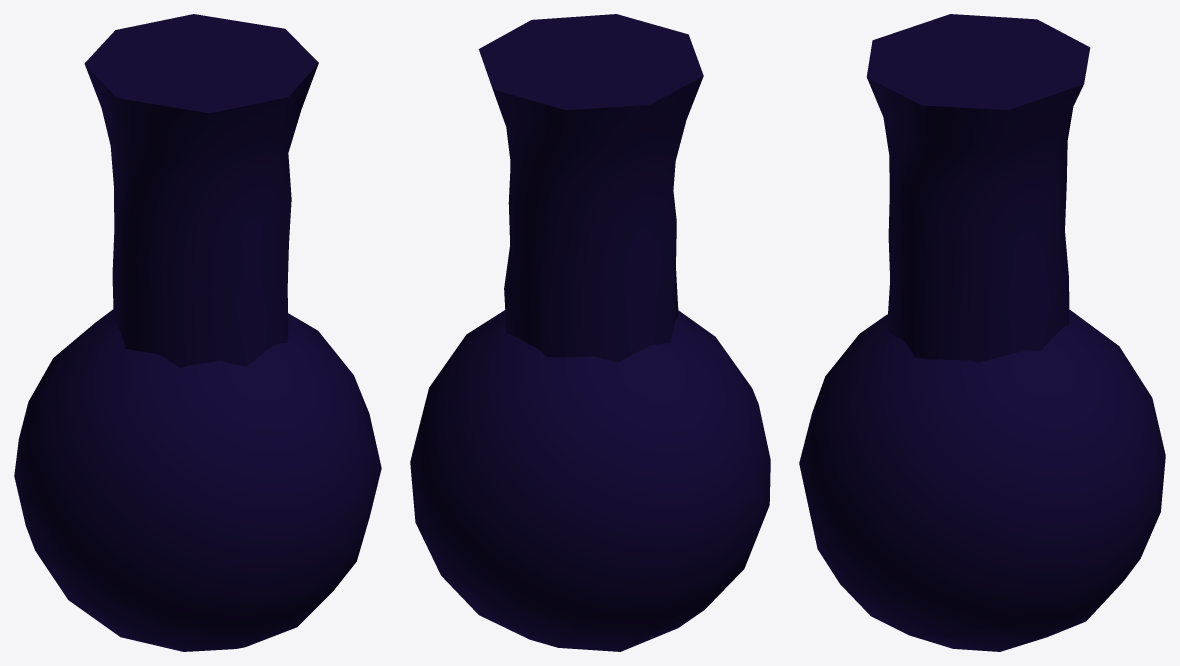
The model's file is postion-dark puerple.fbx.
The picture shows the model from 3 angles, left to right: view 1: azimuth 30°, elevation 25°; view 2: azimuth 150°, elevation 25°; view 3: azimuth 270°, elevation 25°; orthographic projection.
Parts seen in each view (by area): view 1: Cylinder005; view 2: Cylinder005; view 3: Cylinder005.
Boxes of the visible parts, x1,y1,x2,y2 form: Cylinder005: (14,14,381,651); Cylinder005: (410,14,770,651); Cylinder005: (799,14,1165,651).
Size of the model in its own units: 0.9521 by 1.66 by 0.9628.
